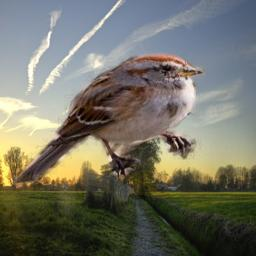Sparrow: (13, 51, 205, 197)
